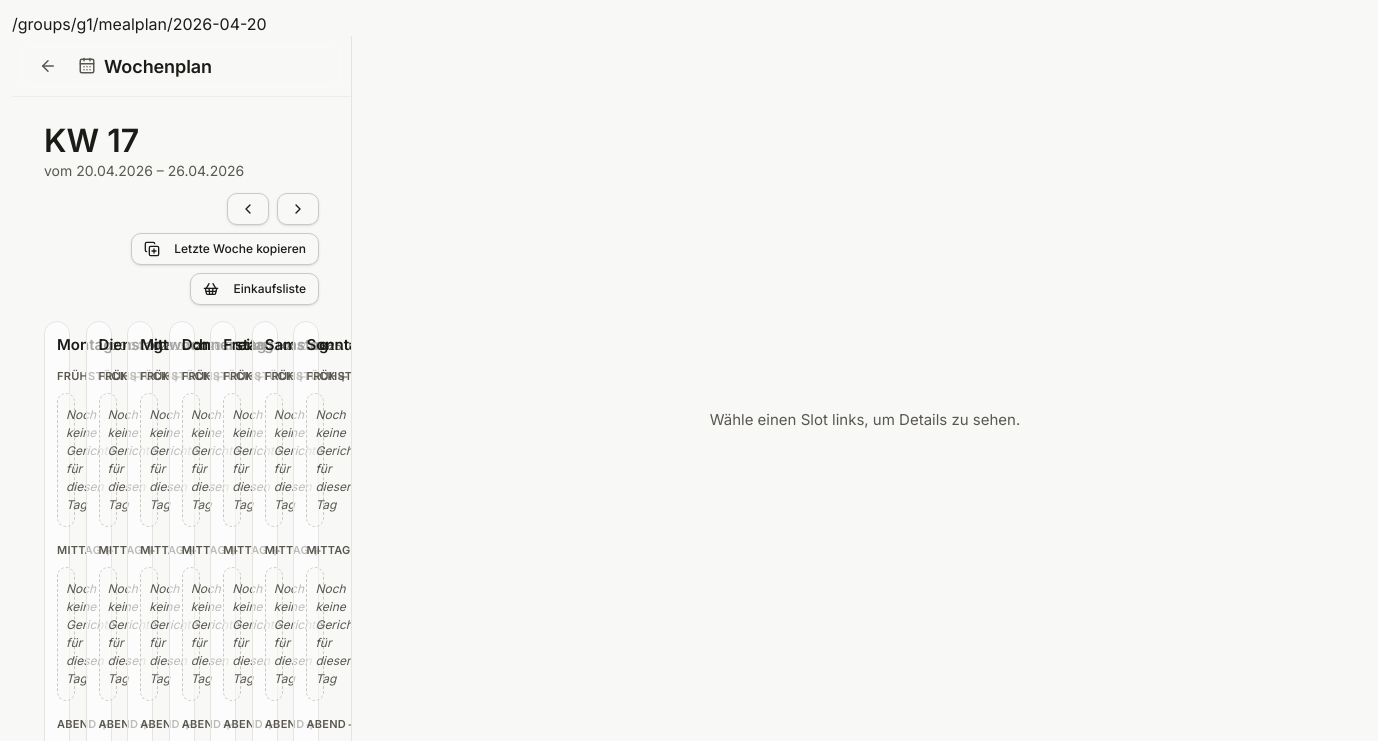
Test: <MealPlanPage /> › navigates -7 days when "Vorherige Woche" is clicked
Expected: the heading "KW 17" is shown, [44, 121, 139, 160]
Step 1. Click the button named "Vorherige Woche" → (248, 209), box [227, 193, 269, 225]
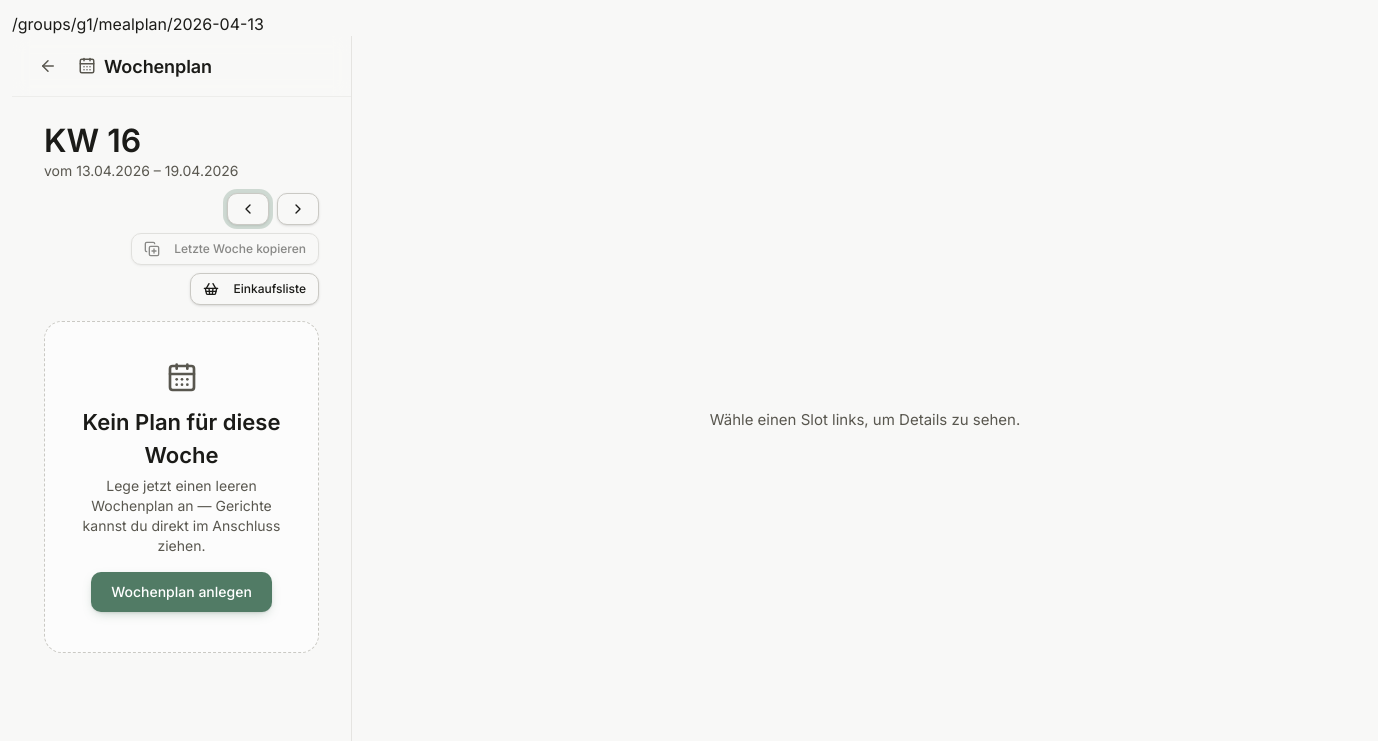
Result: the text with test id "current-path" reads "/groups/g1/mealplan/2026-04-13" at [12, 14, 264, 34]
